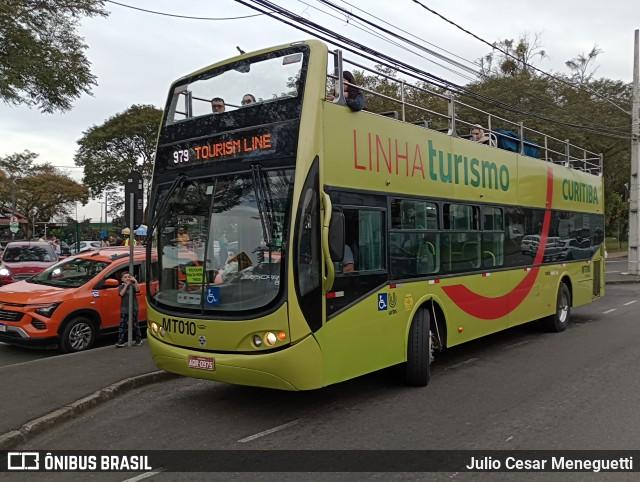TOURISM LINE: (193, 129, 276, 165)
